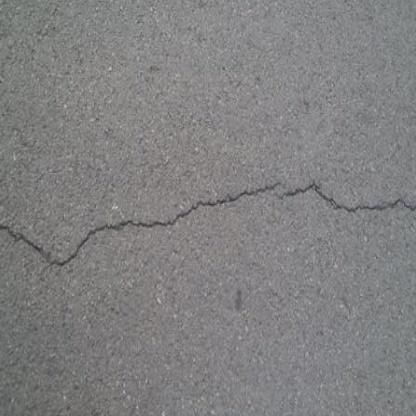Cracks: (0, 176, 416, 271)
